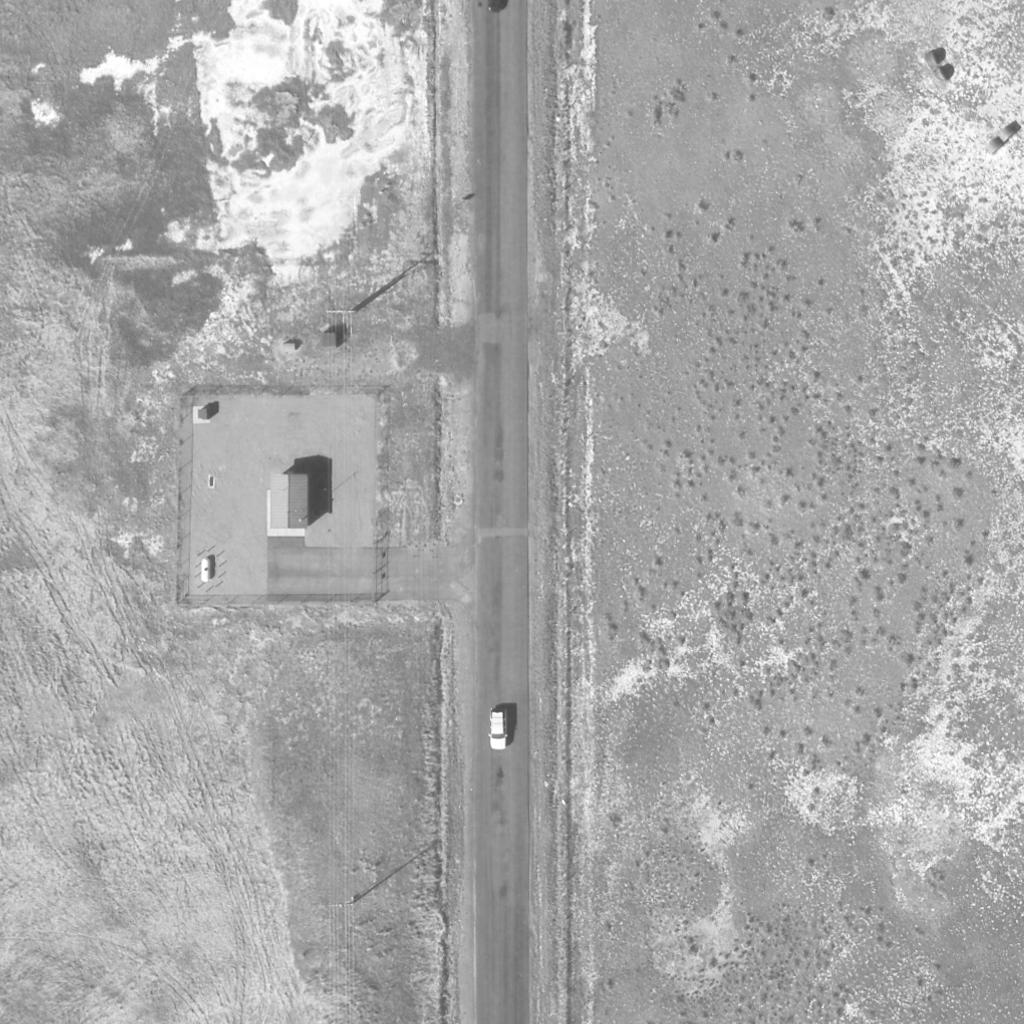vehicle: (488, 706, 508, 752)
